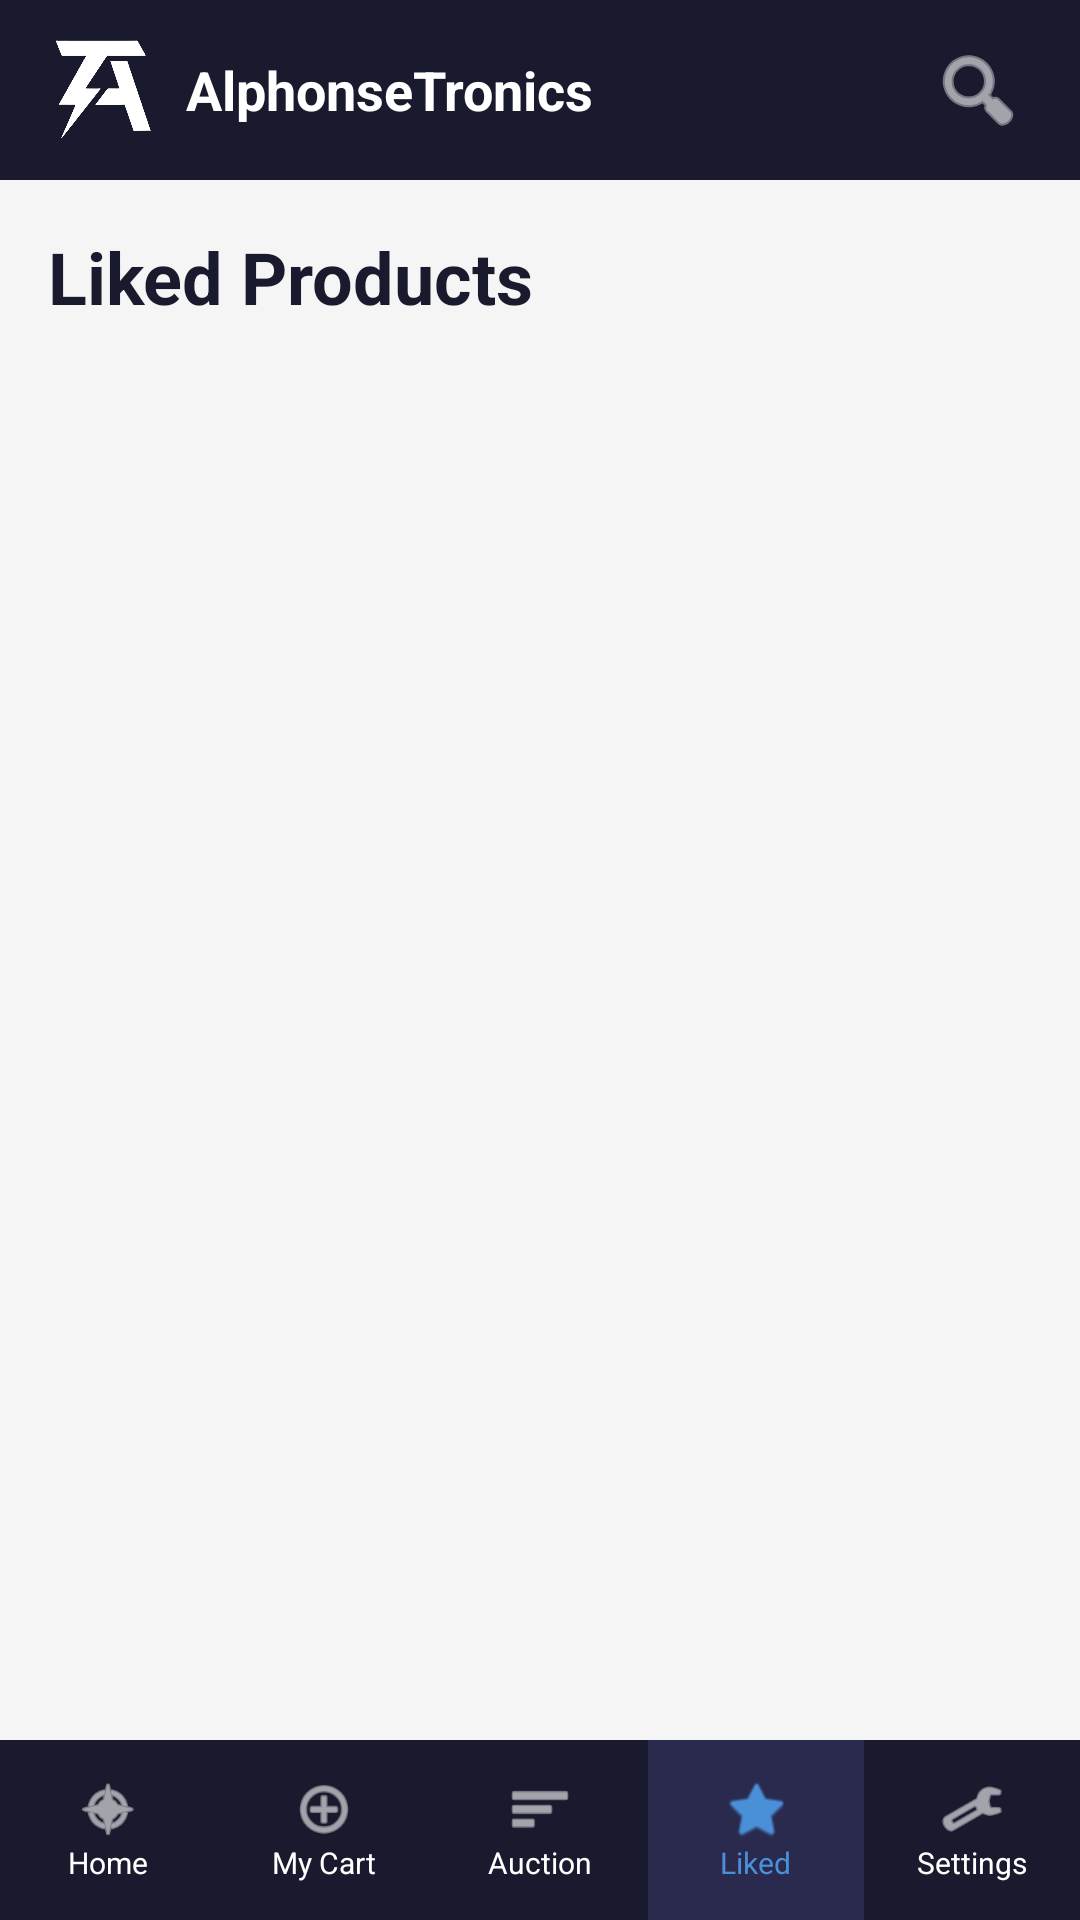

Screen size 1080×1920. Icon name, then its box in pixels as (x1, y1, x2, y2):
add: (299, 1785, 349, 1834)
compass: (82, 1783, 134, 1835)
manage: (942, 1786, 1002, 1832)
Search: (942, 55, 1014, 126)
sort by size: (512, 1791, 568, 1828)
star on: (729, 1783, 784, 1836)
